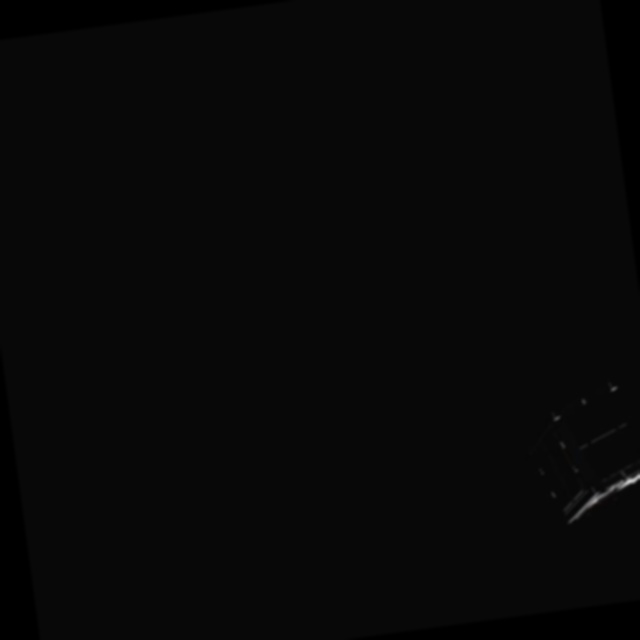satellite: (511, 369, 640, 528)
